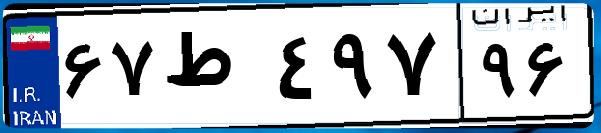4: (270, 28, 330, 110)
6: (57, 26, 110, 100), (525, 38, 570, 115)
7: (385, 28, 445, 110), (110, 28, 158, 98)
9: (330, 28, 385, 110), (475, 38, 525, 113)
ط: (158, 20, 270, 120)
